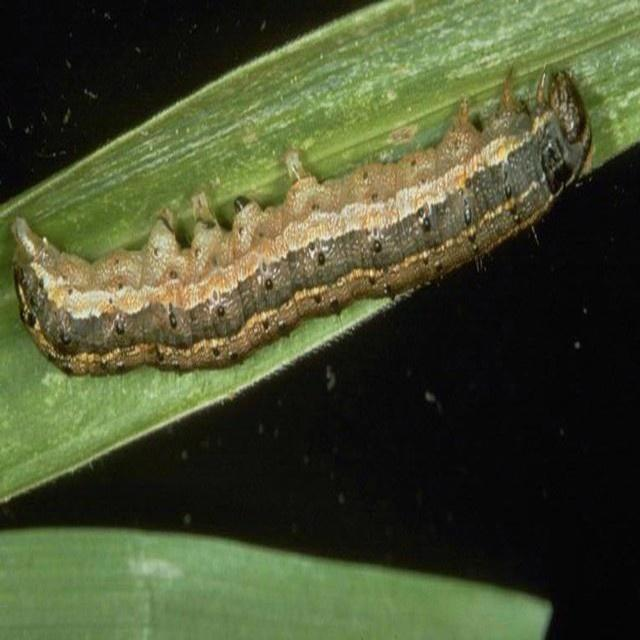gusano_cogollero: (9, 67, 584, 370)
